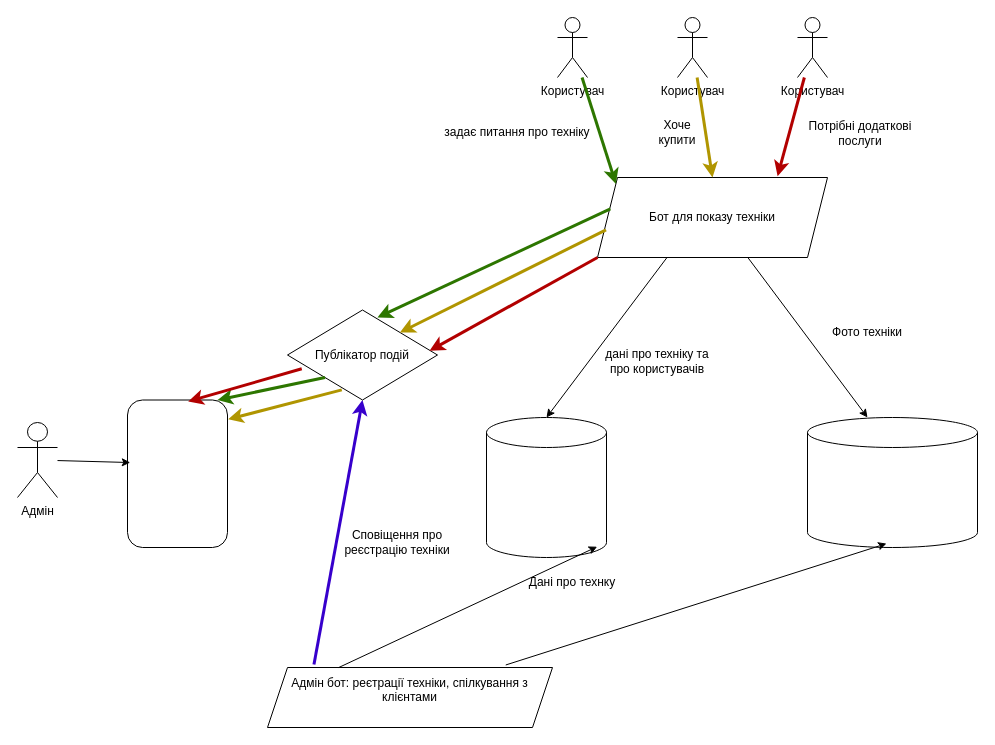
Some shapes in this 995 by 745 pixel diagram are drawn without their labels. The shapes that lost their labels are listed below. From the top down, each one's box as (x1, y1, x2, y2) in pixels, then its label:
(126, 399, 228, 548): Чат адміна
(486, 416, 606, 558): PostgreSQL
(806, 416, 978, 548): S3 для медіа
